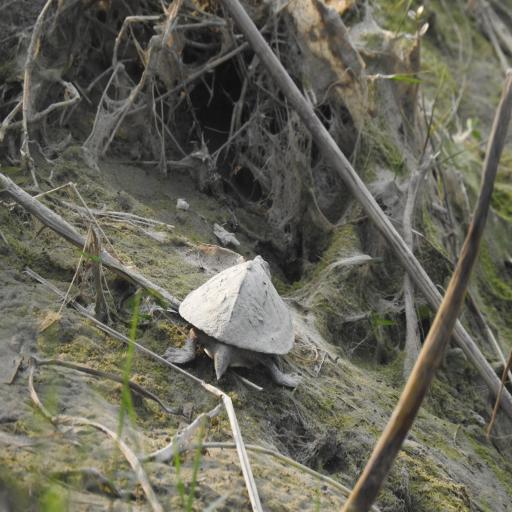turtle: (172, 216, 312, 390)
